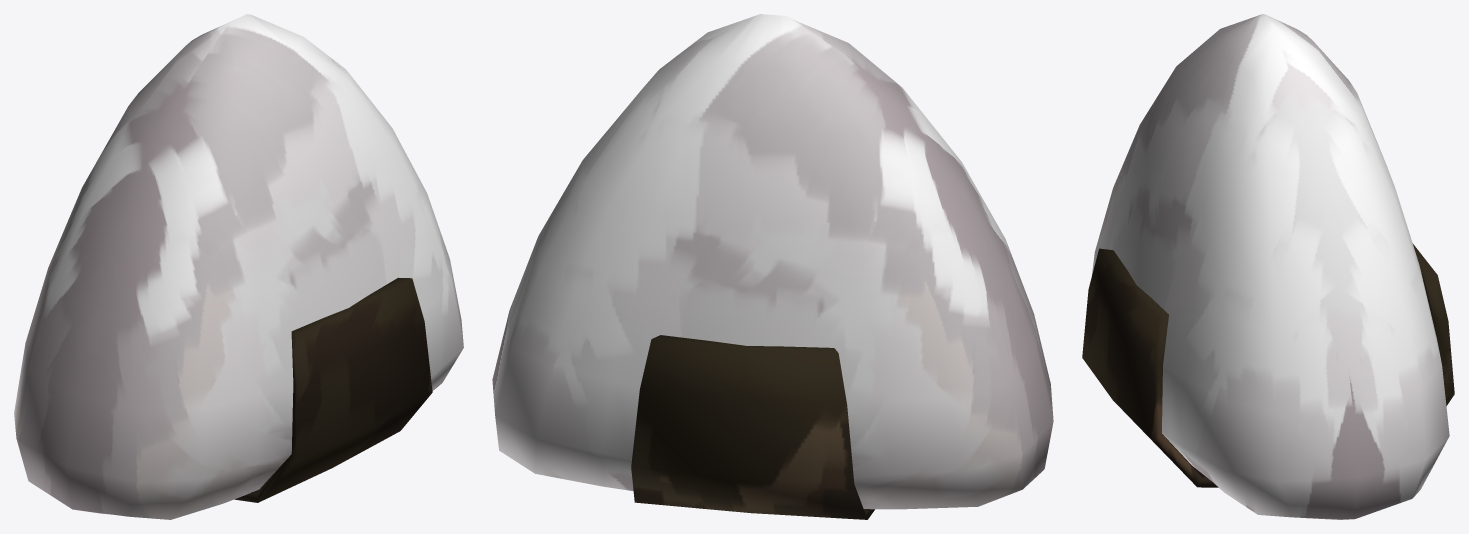
Rendered from felx.gltf.
3 renders of one model, left to right at view 1: azimuth 30°, elevation 25°; view 2: azimuth 150°, elevation 25°; view 3: azimuth 270°, elevation 25°, orthographic. The views are drawn at different scales.
Visible parts, largest first — view 1: Object_4.001; view 2: Object_4.001; view 3: Object_4.001.
Boxes of the visible parts, box(x1,y1,x2,y2) form: Object_4.001: box(14, 14, 463, 519); Object_4.001: box(492, 14, 1053, 519); Object_4.001: box(1082, 14, 1454, 519).
Size of the model in its own units: 0.0198 by 0.018 by 0.0143.
1 material, 1 textured.
